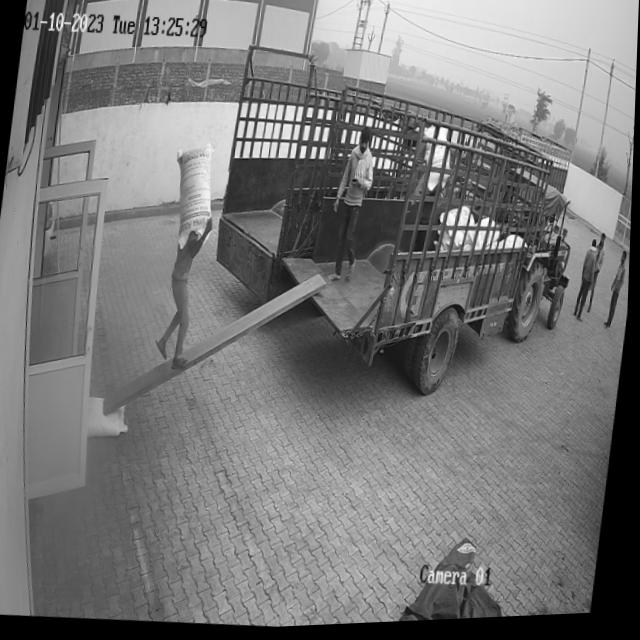sack: (165, 142, 220, 253), (88, 396, 134, 441)
